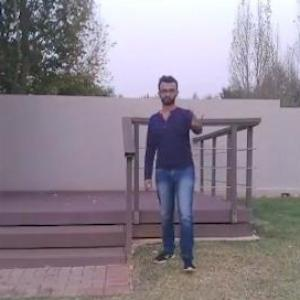takeoff-hand: (186, 103, 214, 136)
